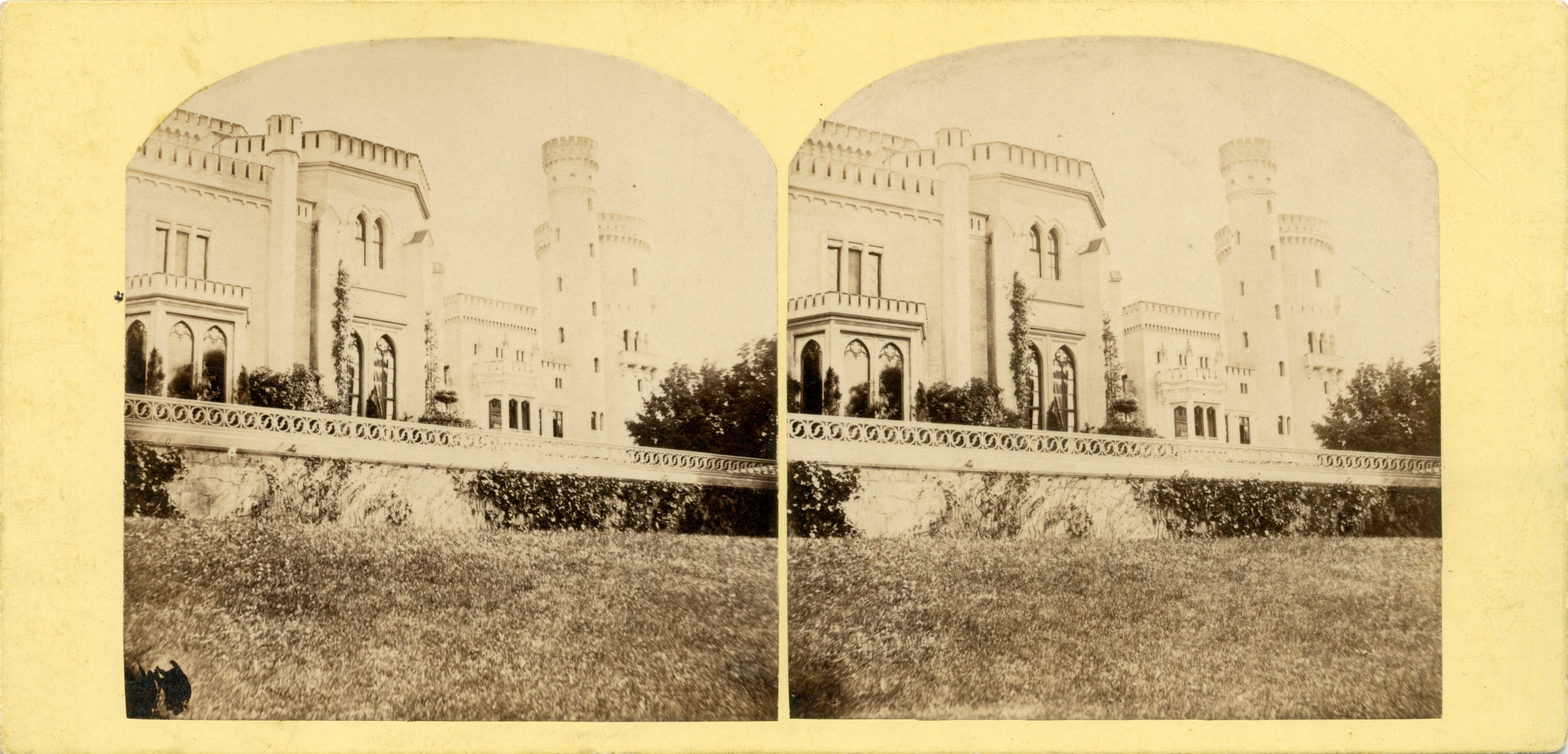half_image: (789, 35, 1441, 718), (127, 38, 777, 720)
